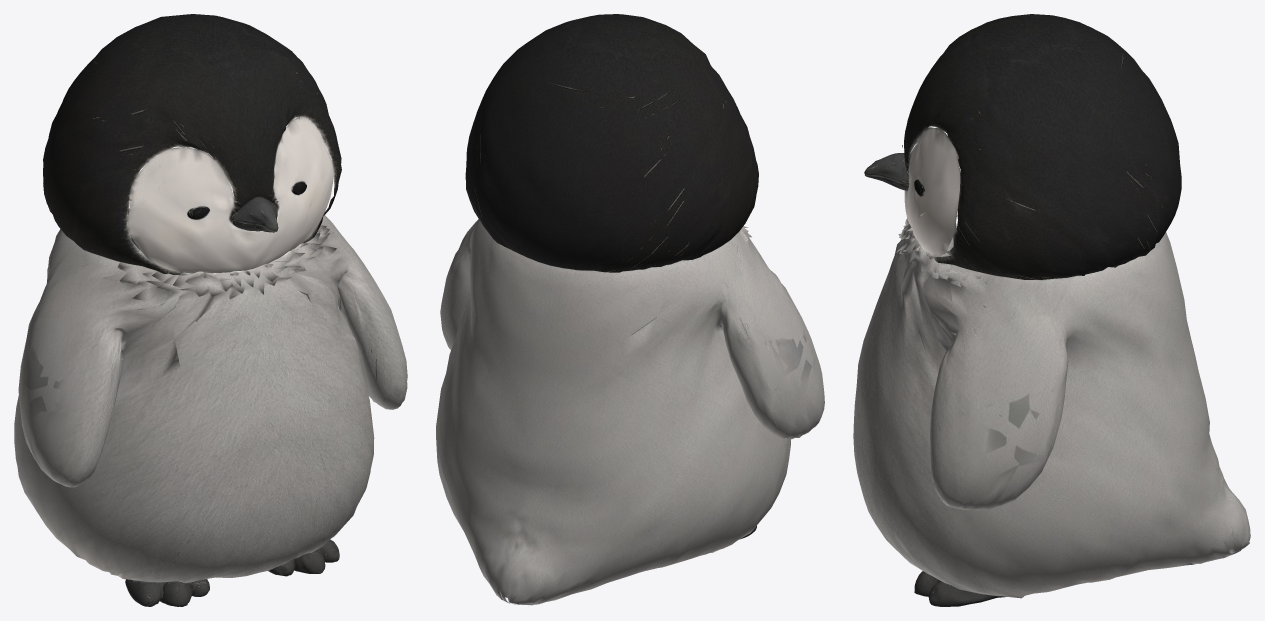
Rendered from penguin.glb.
3 views of the same model, side by side, from view 1: azimuth 30°, elevation 25°; view 2: azimuth 150°, elevation 25°; view 3: azimuth 270°, elevation 25° (orthographic). The views are drawn at different scales.
Bounding box in the file's own units: 0.6895 × 0.9512 × 0.644.
Materials: 1 (1 with a texture image).
